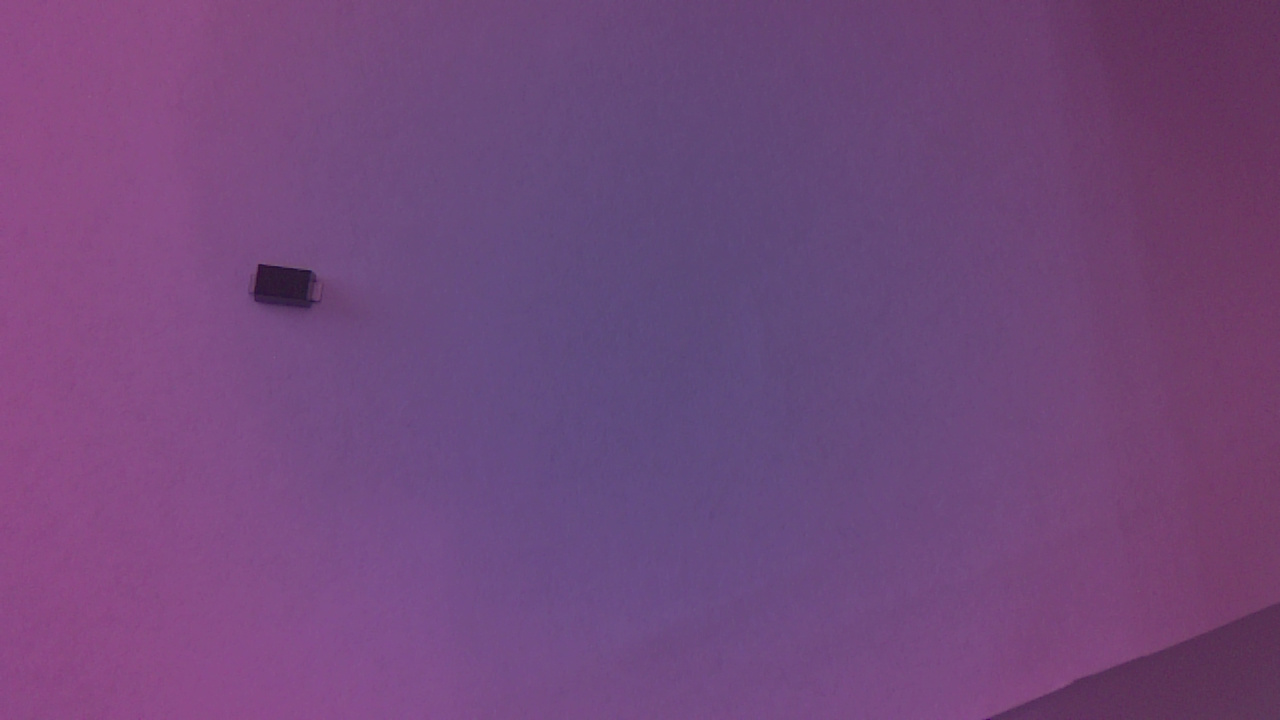Diode: (248, 265, 337, 318)
